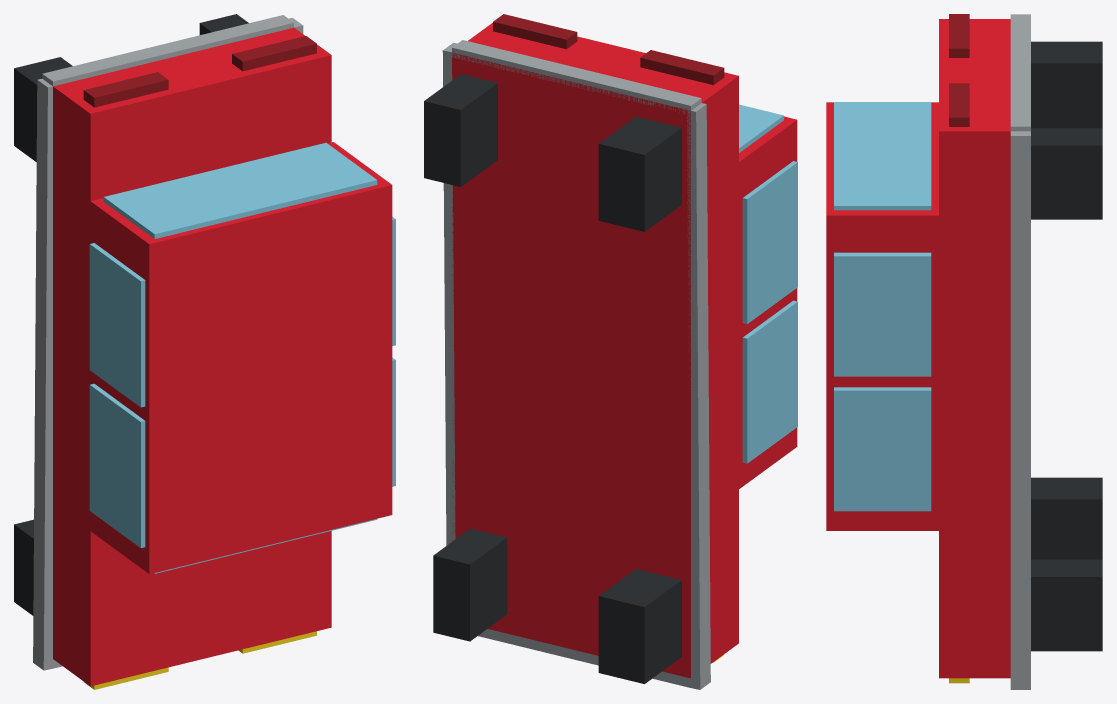
File: tinker.obj
The picture shows the model from 3 angles, left to right: view 1: azimuth 30°, elevation 25°; view 2: azimuth 150°, elevation 25°; view 3: azimuth 270°, elevation 25°; orthographic projection. The views are drawn at different scales.
Parts seen in each view (by area): view 1: obj_5, obj_0, obj_9, obj_18, obj_7, obj_6, obj_17, obj_4, obj_1, obj_15, obj_14; view 2: obj_0, obj_18, obj_1, obj_4, obj_6, obj_7, obj_2, obj_3, obj_5, obj_17, obj_19, obj_15 (+3 smaller); view 3: obj_0, obj_5, obj_10, obj_11, obj_19, obj_9, obj_2, obj_3, obj_4, obj_1, obj_17, obj_14 (+1 smaller).
Part boxes in pixels (x1,y1,x2,y2): obj_5: (90,142,392,574); obj_0: (53,27,331,686); obj_9: (103,142,377,238); obj_18: (33,78,52,670); obj_7: (89,243,145,407); obj_6: (89,383,145,547); obj_17: (42,15,293,86); obj_4: (14,57,72,161); obj_1: (14,519,33,615); obj_15: (83,72,168,107); obj_14: (232,36,316,71); obj_0: (452,22,738,678); obj_18: (687,103,710,689); obj_1: (598,569,681,683); obj_4: (598,116,681,231); obj_6: (742,300,797,463); obj_7: (742,161,797,323); obj_2: (433,528,507,641); obj_3: (424,74,497,186); obj_5: (739,116,797,488); obj_17: (452,40,701,115); obj_19: (442,42,457,545); obj_15: (640,50,724,84); obj_0: (939,19,1010,678); obj_5: (826,102,938,530); obj_10: (834,252,931,376); obj_11: (834,387,931,511); obj_19: (1010,131,1030,689); obj_9: (834,102,931,210); obj_2: (1031,559,1102,651); obj_3: (1031,128,1102,219); obj_4: (1031,41,1102,128); obj_1: (1031,477,1102,559); obj_17: (1010,14,1030,131); obj_14: (949,83,969,126).
Size of the model in its own units: 28 by 61 by 27.
